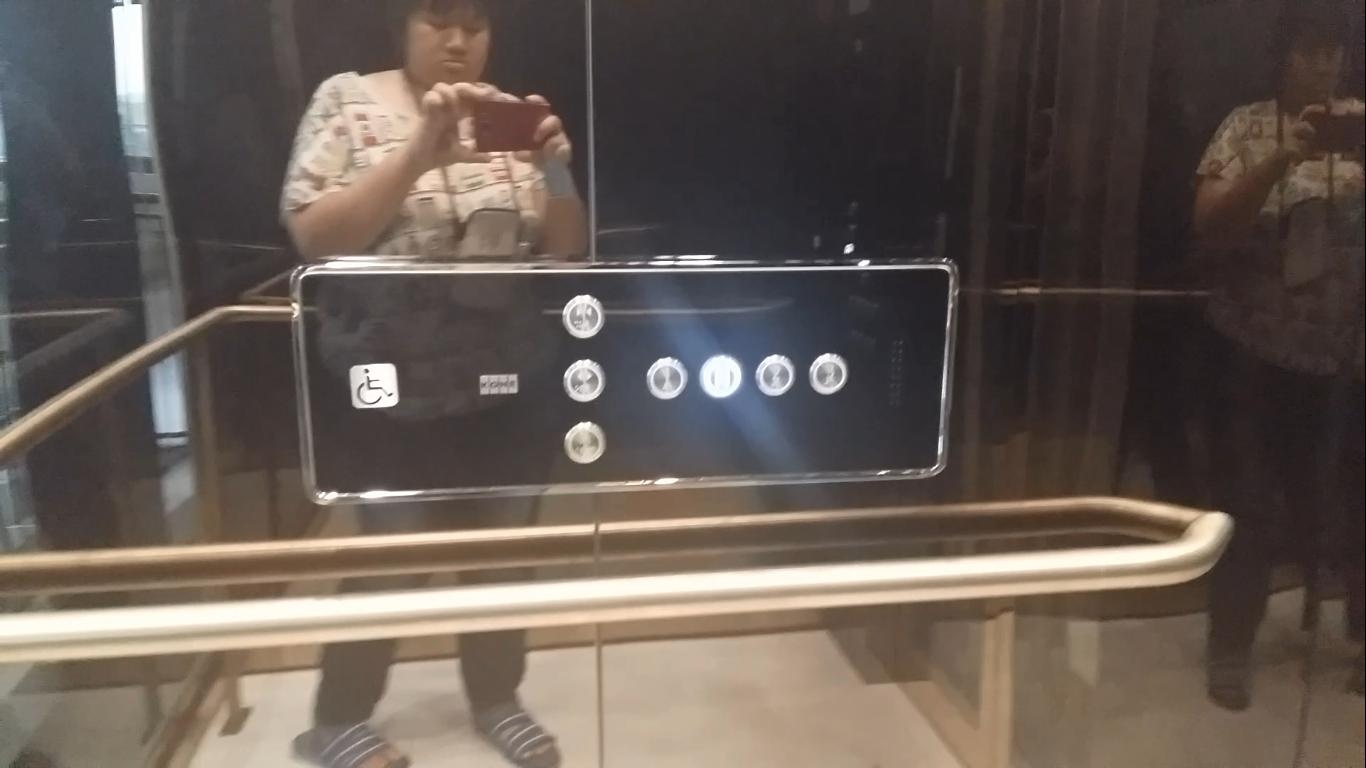CH: (348, 363, 398, 409)
close: (562, 293, 606, 338)
empty: (647, 354, 689, 401), (701, 354, 742, 397), (808, 354, 847, 395), (756, 354, 793, 397), (566, 423, 604, 464)
open: (563, 359, 604, 402)
